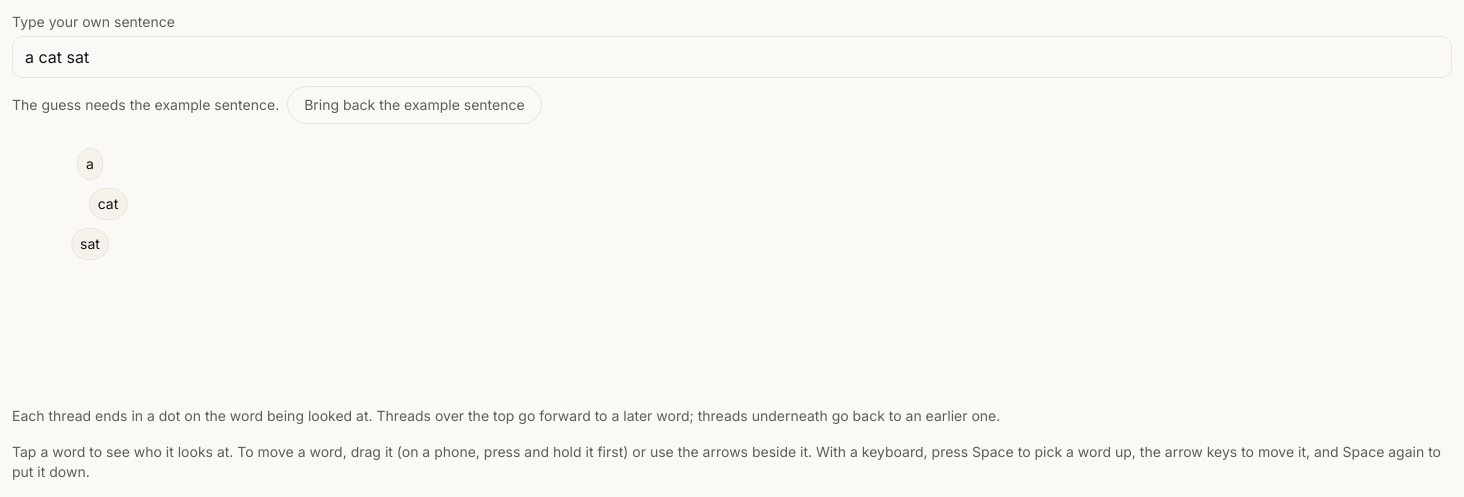
Test: the attention scene › offers the example sentence back when the guess cannot be answered (ATT-08)
This screenshot has width=1464, height=497.
Expected: the text "The guess needs the example sentence." is shown, [12,95,279,115]
Click the button "Bring back the example sentence" at (414, 105), box [287,86,542,124]
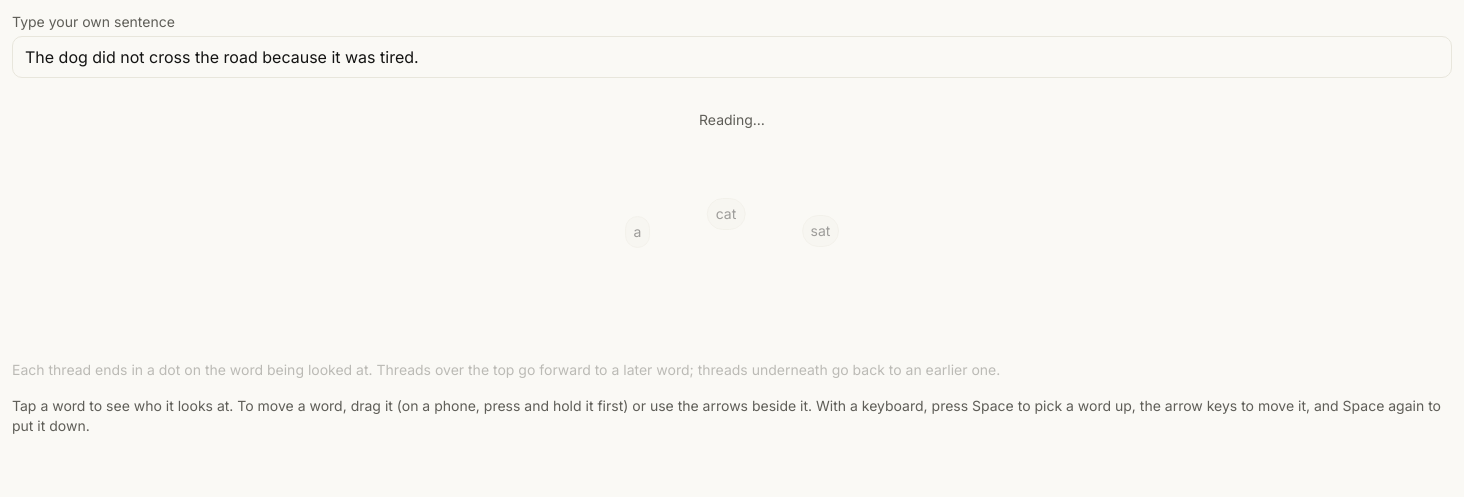
Result: the field labelled "Type your own sentence" holds "The dog did not cross the road because it was tired." at [12,36,1452,78]
Result: the button "Bring back the example sentence" is gone
